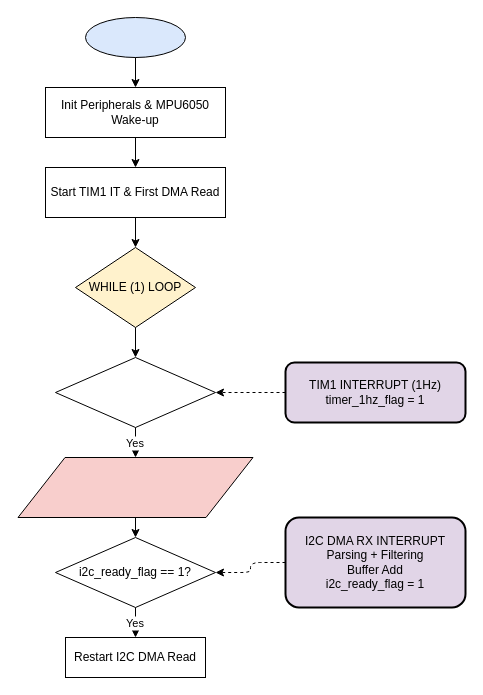
Some shapes in this 483 by 695 pixel diagram are drawn without their labels. Each missing label, with the centre of its shape:
Calculate Stats & Send UART5: the point at 135,487
START: the point at 135,37
timer_1hz_flag == 1?: the point at 135,392
